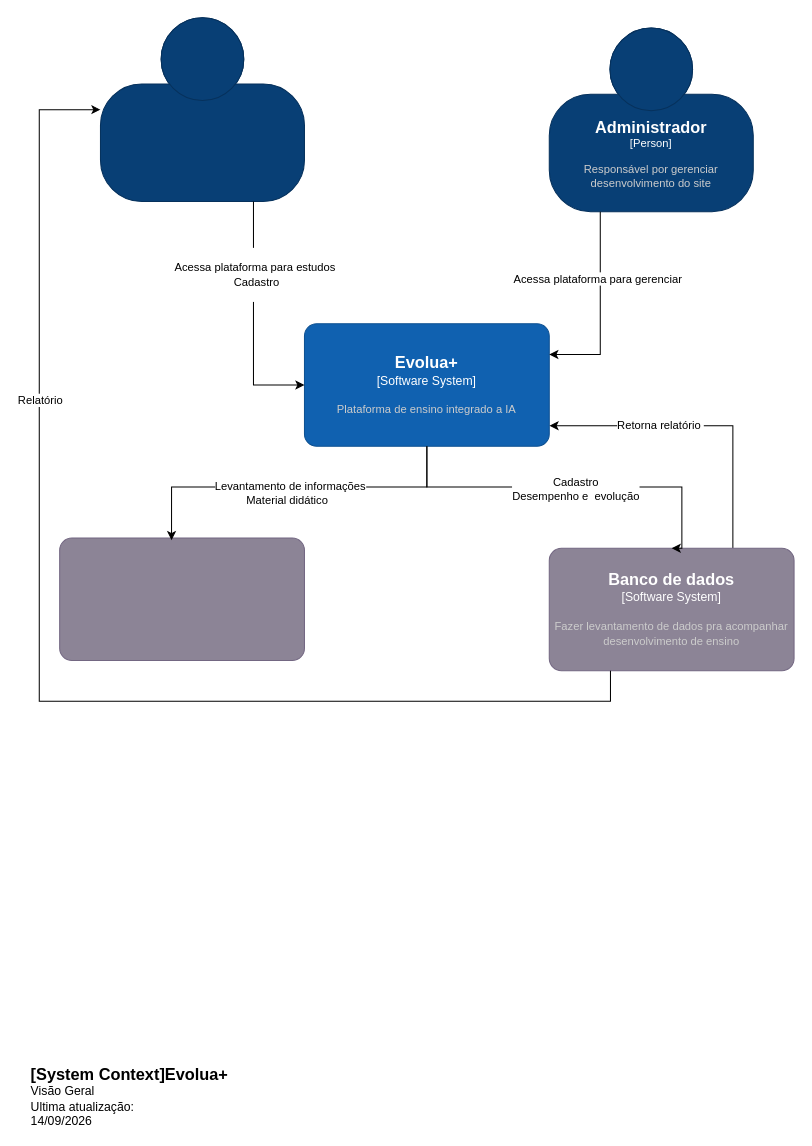
Image size: 812x1146. Some labels were removed from this diagram. Each missing label, with the box of its shape:
Aluno [Person] Usuário da plataforma de ensino: (99, 17, 304, 201)
Inteligência Artificial [Software System] Gerenciamento de plano de estudo: (59, 537, 304, 660)
